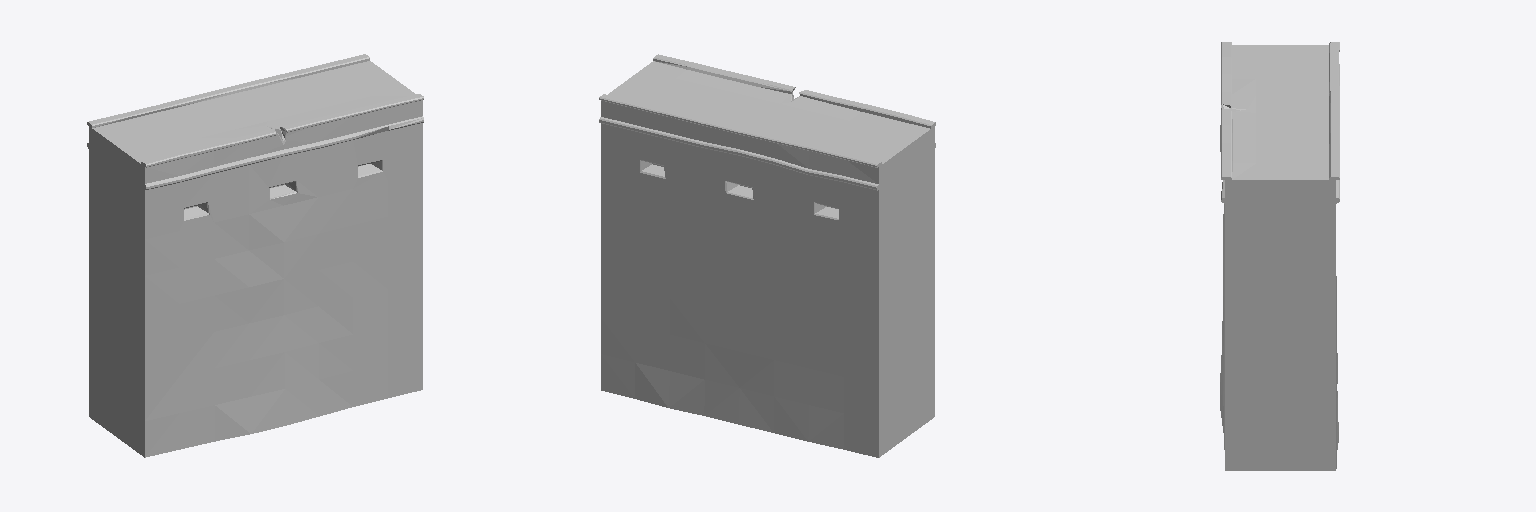
The model's file is msh_fort_wall_01.obj.
3 renders of one model, left to right at view 1: azimuth 30°, elevation 25°; view 2: azimuth 150°, elevation 25°; view 3: azimuth 270°, elevation 25°, orthographic.
Visible parts, largest first — view 1: msh_fort_wall_01_Cube.037; view 2: msh_fort_wall_01_Cube.037; view 3: msh_fort_wall_01_Cube.037.
Boxes of the visible parts, <box> form: msh_fort_wall_01_Cube.037: <box>87,54,423,457</box>; msh_fort_wall_01_Cube.037: <box>599,54,935,457</box>; msh_fort_wall_01_Cube.037: <box>1220,42,1339,470</box>.
Size of the model in its own units: 6 by 6.09 by 2.26.